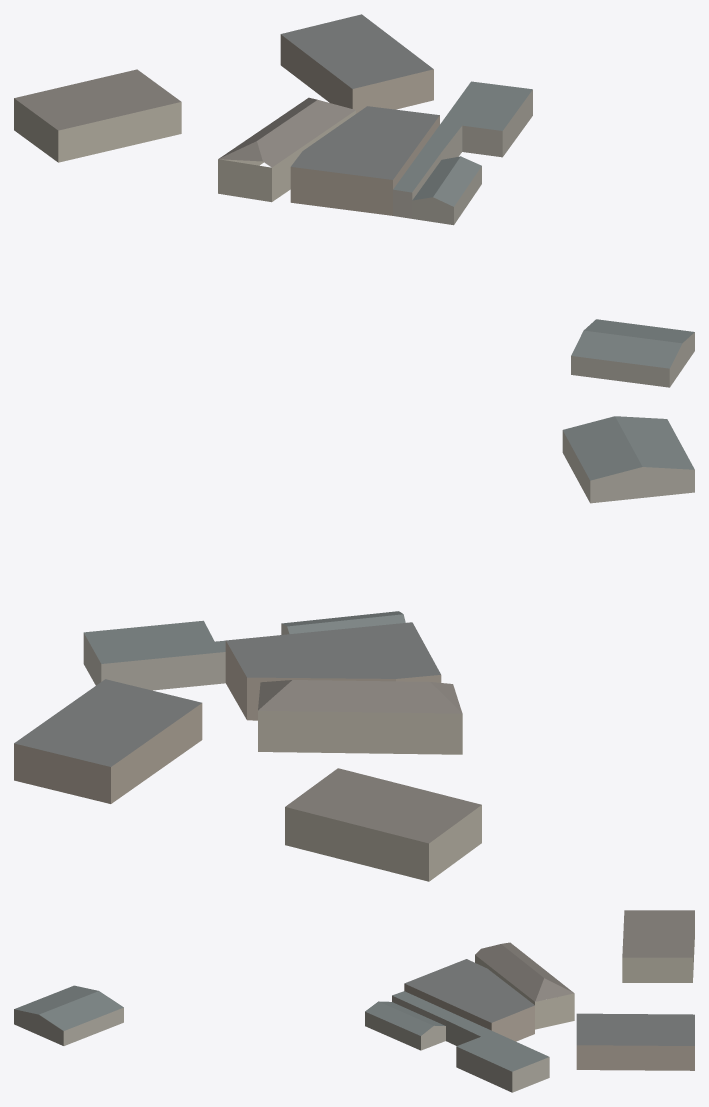
The model's file is e1e4f7f9b711-chunk-1194_11840.glb.
3 renders of one model, top to bottom at view 1: azimuth 30°, elevation 25°; view 2: azimuth 150°, elevation 25°; view 3: azimuth 270°, elevation 25°, orthographic. The views are drawn at different scales.
Parts seen in each view (by area): view 1: building_64870, building_53099, building_21660, building_97125, building_147605, building_128119, building_84619; view 2: building_21660, building_64870, building_147605, building_53099, building_128119, building_97125, building_84619; view 3: building_21660, building_53099, building_97125, building_64870, building_128119, building_147605, building_84619.
Boxes of the visible parts, x1,y1,x2,y2 form: building_64870: [14, 69, 181, 162]; building_53099: [290, 106, 439, 215]; building_21660: [280, 14, 433, 113]; building_97125: [393, 81, 532, 218]; building_147605: [218, 97, 355, 202]; building_128119: [571, 319, 694, 387]; building_84619: [412, 156, 481, 225]; building_21660: [14, 679, 202, 803]; building_64870: [285, 768, 481, 881]; building_147605: [258, 680, 462, 754]; building_53099: [225, 622, 441, 720]; building_128119: [562, 416, 694, 503]; building_97125: [83, 620, 225, 690]; building_84619: [281, 611, 405, 634]; building_21660: [576, 1013, 694, 1070]; building_53099: [404, 959, 534, 1041]; building_97125: [392, 991, 549, 1092]; building_64870: [622, 910, 694, 982]; building_128119: [14, 985, 123, 1045]; building_147605: [475, 942, 574, 1029]; building_84619: [365, 1001, 445, 1050].
Bounding box in the file's own units: 80.58 × 9.3 × 148.
